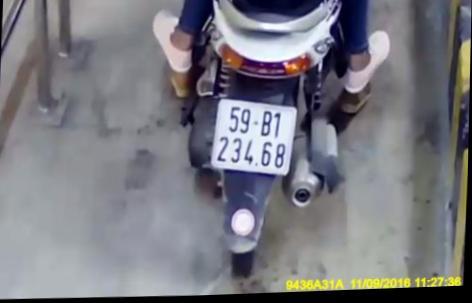LP: (209, 96, 300, 182)
